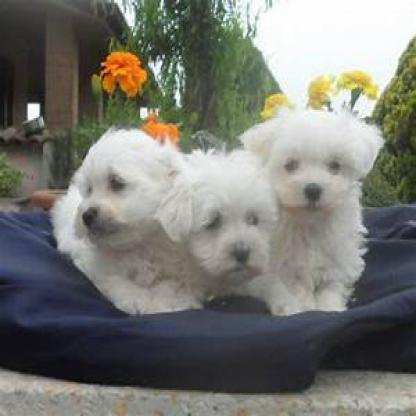dog: (50, 128, 190, 316), (264, 102, 384, 311), (169, 149, 280, 311)
